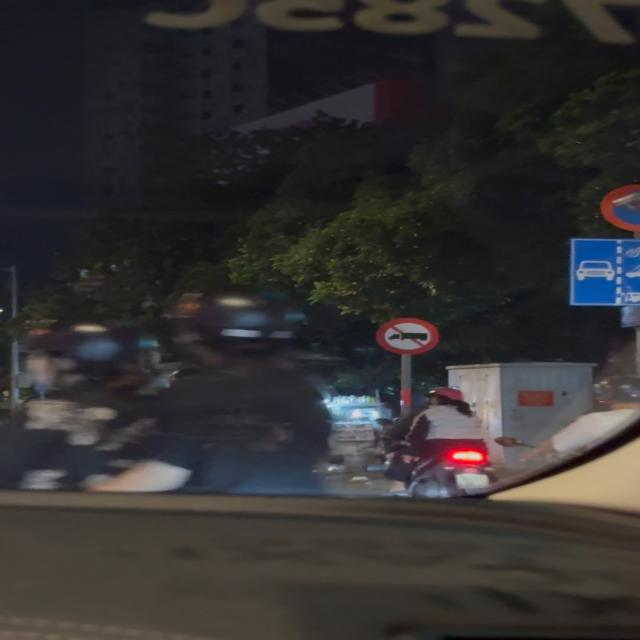Bien bao cam xe so-mi ro-mooc: (375, 315, 442, 356)
